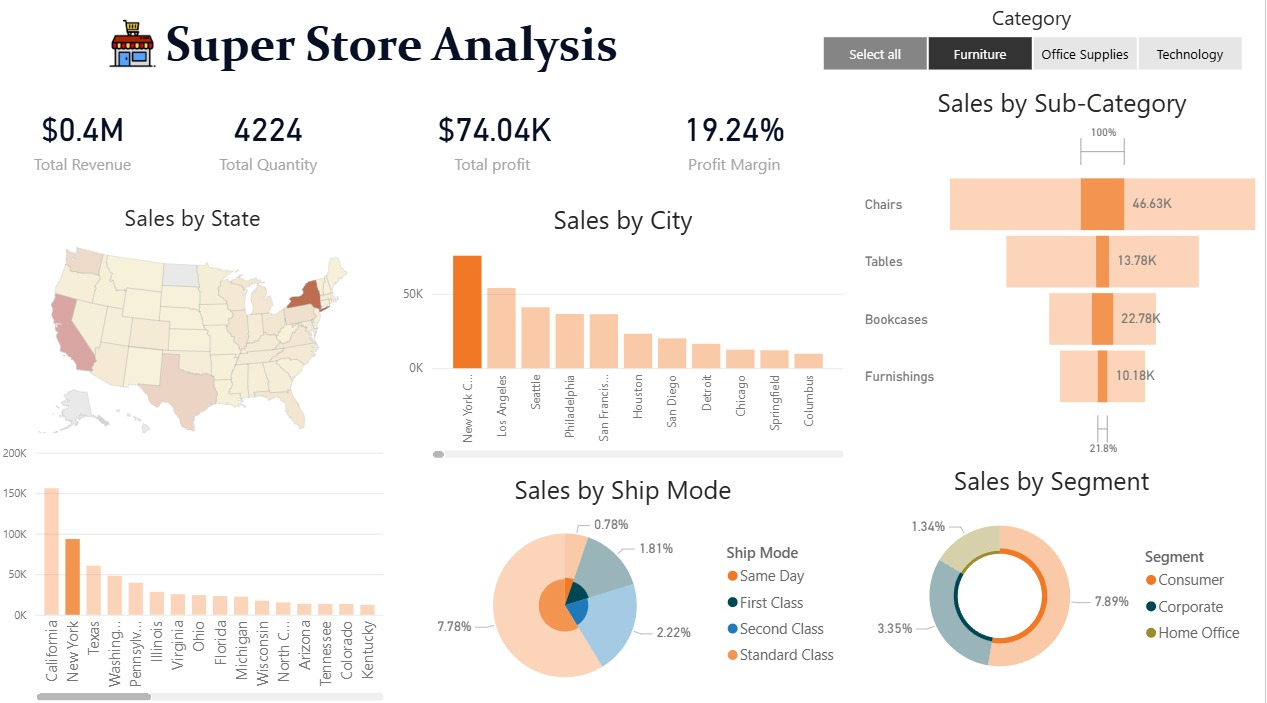

This screenshot's page, from the dashboard's own definition file:
{"tool":"powerbi","page":{"name":"Sales","canvas":[1280,720],"ordinal":0},"visuals":[{"type":"textbox","box":[165.7,16.4,479.3,72.1],"z":0,"group":"g1"},{"type":"card","fields":{"Values":["SampleSuperstore.Profit plus Sales"]},"box":[0,93,171.8,106.3],"z":0},{"type":"image","box":[107.7,20.4,58.2,59.3],"z":1000,"group":"g1"},{"type":"card","fields":{"Values":["Sum(SampleSuperstore.Quantity)"]},"box":[171.8,93,204.6,106.3],"z":1000},{"type":"card","fields":{"Values":["Sum(SampleSuperstore.Profit)"]},"box":[376.4,93,249.7,106.3],"z":2000},{"type":"card","fields":{"Values":["SampleSuperstore.Profit divided by Total Revenue"]},"box":[626.1,93,233.8,106.3],"z":3000},{"type":"shapeMap","title":"Sales by State","fields":{"Category":["SampleSuperstore.State"],"Value":["Sum(SampleSuperstore.Sales)"]},"box":[0,209.9,395,248.9],"z":4000},{"type":"clusteredColumnChart","fields":{"Y":["Sum(SampleSuperstore.Sales)"],"Category":["SampleSuperstore.State"]},"box":[0,449.7,395.2,269.5],"z":5000},{"type":"clusteredColumnChart","title":"Sales by City","fields":{"Y":["Sum(SampleSuperstore.Sales)"],"Category":["SampleSuperstore.City"]},"box":[404.7,209.9,455.2,263.9],"z":6000},{"type":"pieChart","title":"Sales by Ship Mode","fields":{"Category":["SampleSuperstore.Ship Mode"],"Y":["Sum(SampleSuperstore.Sales)"]},"box":[404.7,483.5,455.2,235.6],"z":7000},{"type":"funnel","title":"Sales by Sub-Category","fields":{"Category":["SampleSuperstore.Sub-Category"],"Y":["Sum(SampleSuperstore.Sales)"]},"box":[870.6,93,409.2,380.8],"z":8000},{"type":"donutChart","title":"Sales by Segment","fields":{"Category":["SampleSuperstore.Segment"],"Y":["Sum(SampleSuperstore.Sales)"]},"box":[860.1,473.9,408.8,234.7],"z":9000},{"type":"slicer","title":"Category","fields":{"Values":["SampleSuperstore.Category"]},"box":[808.3,10,471.7,73.9],"z":10000},{"type":"group","id":"g1","title":"Group 1","box":[107.7,16.4,537.4,72.1],"z":11000}]}

Visuals, with their boxes in screenshot pixels (x1, y1, x2, y2), scaled from the page's 1280x720 canvas onto the 1267x703 screenshot:
textbox: (164,16,638,86)
card - SampleSuperstore.Profit plus Sales: (0,91,170,195)
image: (107,20,164,78)
card - Sum(SampleSuperstore.Quantity): (170,91,373,195)
card - Sum(SampleSuperstore.Profit): (373,91,620,195)
card - SampleSuperstore.Profit divided by Total Revenue: (620,91,851,195)
"Sales by State" shapeMap: (0,205,391,448)
clusteredColumnChart - Sum(SampleSuperstore.Sales) x SampleSuperstore.State: (0,439,391,702)
"Sales by City" clusteredColumnChart: (401,205,851,463)
"Sales by Ship Mode" pieChart: (401,472,851,702)
"Sales by Sub-Category" funnel: (862,91,1266,463)
"Sales by Segment" donutChart: (851,463,1256,692)
"Category" slicer: (800,10,1266,82)
"Group 1" group: (107,16,639,86)
